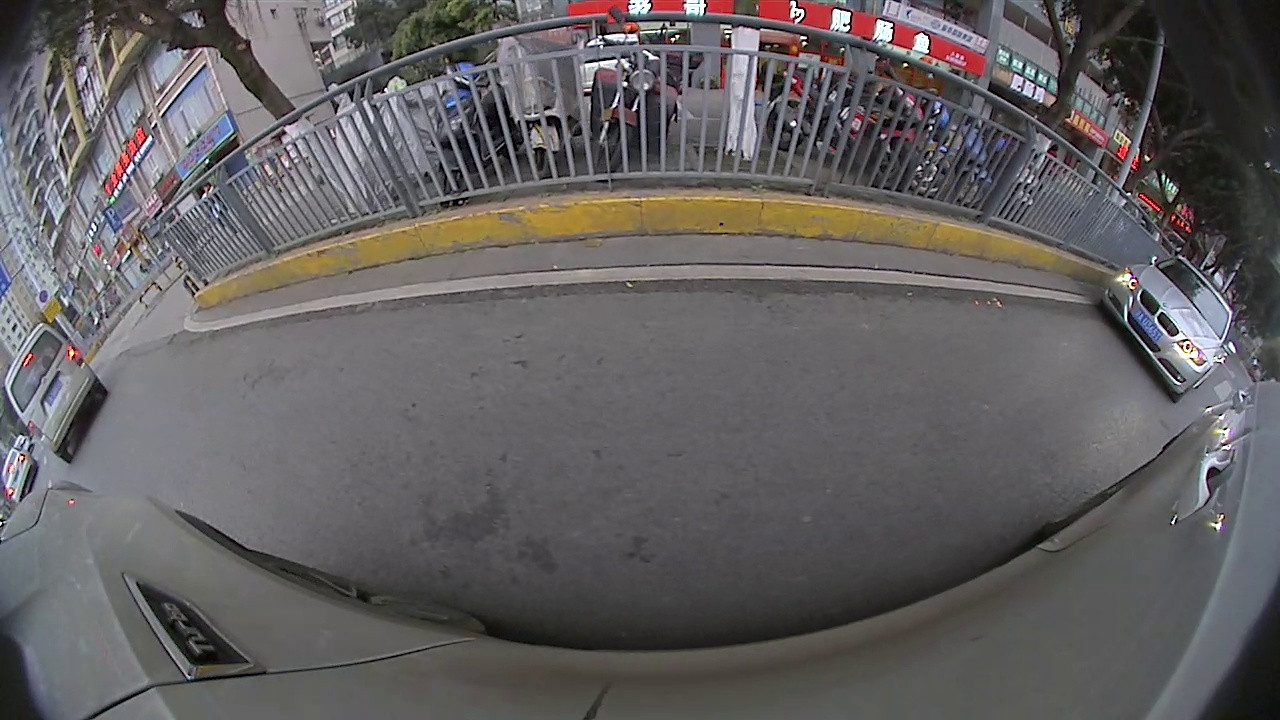car: (1094, 247, 1239, 405), (5, 321, 111, 467)
rider: (587, 2, 706, 186), (770, 50, 928, 188), (487, 0, 593, 188), (421, 38, 532, 210)
